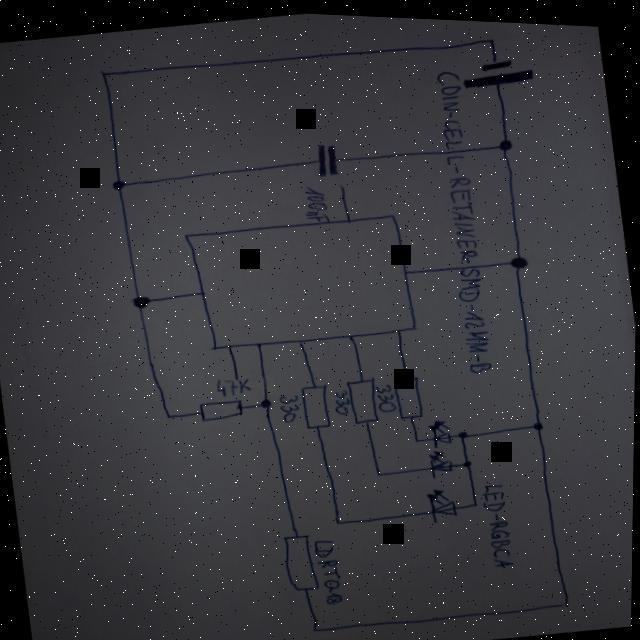capacitor: (312, 137, 345, 177)
diode: (426, 479, 462, 520), (428, 412, 458, 445), (429, 442, 458, 476)
junction: (506, 245, 534, 269), (495, 129, 519, 151), (130, 289, 155, 310), (111, 175, 130, 190), (259, 393, 277, 408), (534, 414, 547, 426), (461, 424, 472, 435), (99, 66, 111, 76), (312, 621, 323, 631), (486, 30, 498, 39), (563, 593, 575, 602), (166, 409, 177, 418), (465, 453, 476, 462), (335, 513, 346, 521), (474, 495, 482, 503), (416, 432, 424, 439), (378, 466, 385, 472)
resistor: (281, 526, 324, 592), (346, 369, 385, 420), (302, 378, 337, 426), (394, 370, 428, 415), (200, 393, 248, 420)
source: (461, 48, 538, 89)
text: (425, 61, 504, 371), (483, 475, 520, 564), (314, 532, 348, 602), (301, 179, 334, 221), (216, 369, 256, 396), (278, 388, 305, 421), (375, 376, 400, 411), (334, 383, 356, 413)
